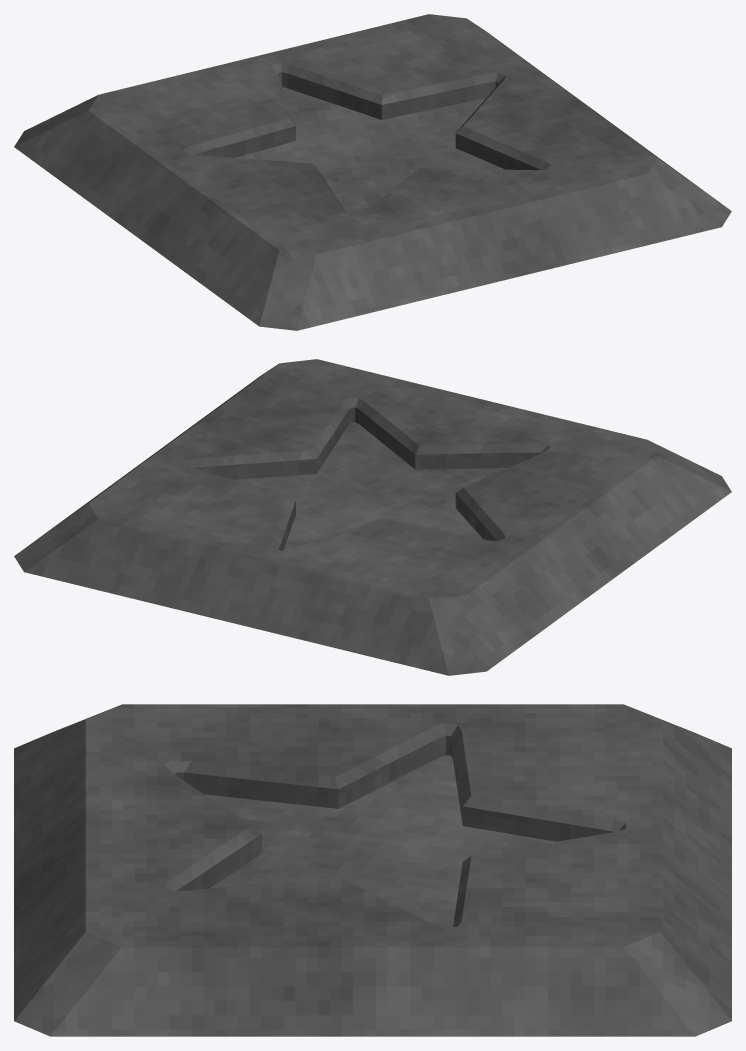
3 views of the same model, one above another, from view 1: azimuth 30°, elevation 25°; view 2: azimuth 150°, elevation 25°; view 3: azimuth 270°, elevation 25° (orthographic). The views are drawn at different scales.
Parts seen in each view (by area): view 1: Base; view 2: Base; view 3: Base.
Boxes of the visible parts, box(x1,y1,x2,y2) form: Base: box(14, 14, 731, 330); Base: box(14, 359, 731, 675); Base: box(14, 704, 731, 1036).
Size of the model in its own units: 2 by 0.1814 by 2.
Materials: 1 (1 with a texture image).
